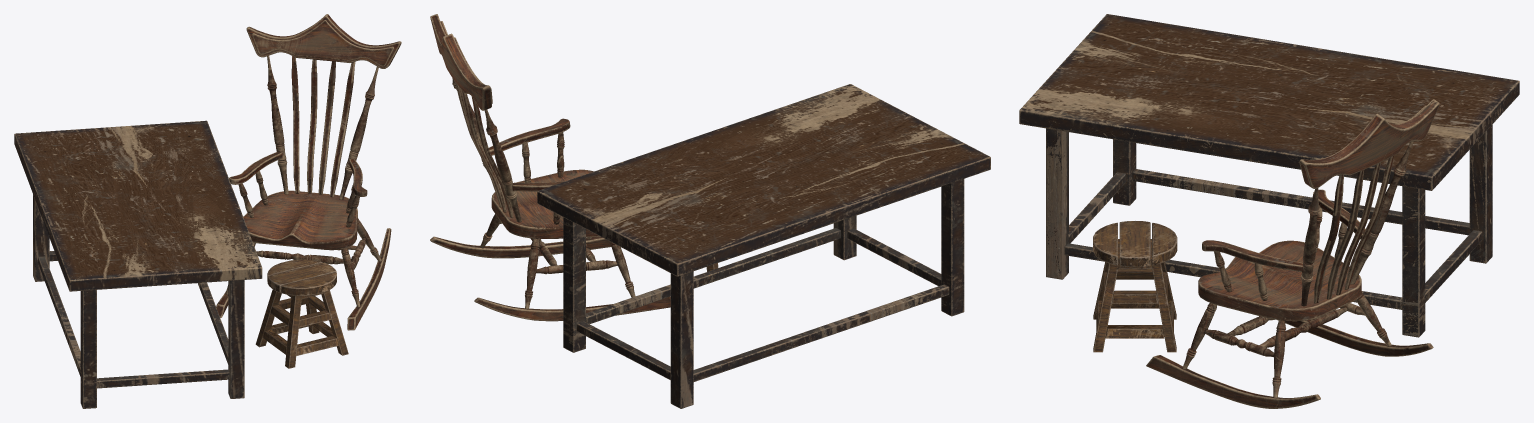
File: furniture.glb
The picture shows the model from 3 angles, left to right: view 1: azimuth 30°, elevation 25°; view 2: azimuth 150°, elevation 25°; view 3: azimuth 270°, elevation 25°; orthographic projection. The views are drawn at different scales.
Visible parts, largest first — view 1: Table, Chair, Stool; view 2: Table, Chair; view 3: Table, Chair, Stool.
Part boxes in pixels (x1,y1,x2,y2): Table: [14, 120, 262, 408]; Chair: [216, 14, 401, 330]; Stool: [255, 259, 348, 368]; Table: [537, 84, 990, 408]; Chair: [430, 14, 670, 321]; Table: [1019, 14, 1519, 337]; Chair: [1146, 99, 1439, 408]; Stool: [1093, 221, 1177, 352].
Bounding box in the file's own units: 10.78 × 5.87 × 9.06.
Materials: 3 (3 with a texture image).
